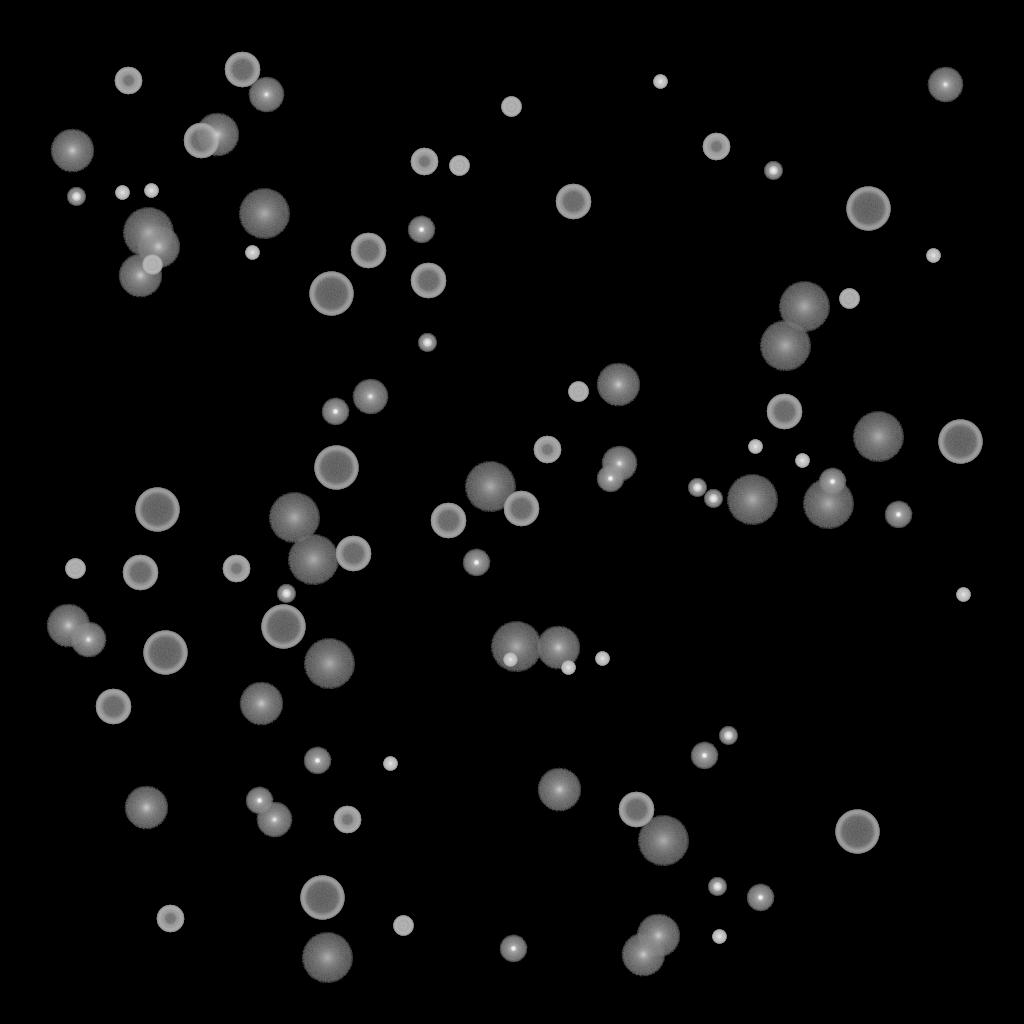depth:-10: (462, 549, 490, 577), (303, 747, 331, 775), (499, 935, 527, 963), (746, 884, 774, 912), (690, 742, 718, 770), (596, 465, 624, 493), (245, 787, 273, 815), (884, 501, 912, 529), (321, 398, 349, 426), (407, 216, 435, 244), (818, 468, 846, 496)
depth:-20: (764, 162, 782, 180), (708, 878, 726, 896), (418, 334, 436, 352), (719, 727, 737, 745), (688, 479, 706, 497), (704, 490, 722, 508), (277, 585, 295, 603), (67, 188, 85, 206)
depth:-30: (561, 661, 575, 675), (956, 588, 970, 602), (595, 652, 609, 666), (144, 184, 158, 198), (115, 186, 129, 200), (653, 75, 667, 89), (503, 653, 517, 667), (245, 246, 259, 260), (383, 757, 397, 771), (748, 440, 762, 454), (795, 454, 809, 468), (926, 249, 940, 263), (712, 930, 726, 944)
depth:-40: (501, 97, 521, 117), (449, 156, 469, 176), (568, 382, 588, 402), (65, 559, 85, 579), (393, 916, 413, 936), (839, 289, 859, 309), (142, 255, 162, 275)
depth:-50: (156, 905, 184, 933), (114, 67, 142, 95), (533, 436, 561, 464), (222, 555, 250, 583), (333, 806, 361, 834), (410, 148, 438, 176), (702, 133, 730, 161)
depth:-60: (503, 491, 539, 527), (766, 394, 802, 430), (350, 233, 386, 269), (224, 52, 260, 88), (335, 536, 371, 572), (618, 792, 654, 828), (430, 503, 466, 539), (183, 123, 219, 159), (95, 689, 131, 725), (410, 263, 446, 299), (555, 184, 591, 220), (122, 555, 158, 591)
depth:-70: (309, 272, 353, 316), (846, 187, 890, 231), (143, 631, 187, 675), (835, 810, 879, 854), (135, 488, 179, 532), (300, 876, 344, 920), (261, 605, 305, 649), (938, 420, 982, 464), (314, 446, 358, 490)
depth:0: (248, 77, 284, 113), (70, 622, 106, 658), (256, 802, 292, 838), (601, 446, 637, 482), (927, 67, 963, 103), (352, 379, 388, 415)
depth:10: (46, 604, 90, 648), (536, 626, 580, 670), (537, 768, 581, 812), (239, 682, 283, 726), (195, 113, 239, 157), (50, 129, 94, 173), (136, 225, 180, 269), (118, 254, 162, 298), (636, 914, 680, 958), (124, 786, 168, 830), (621, 933, 665, 977), (596, 363, 640, 407)
depth:20: (802, 479, 854, 529), (268, 493, 320, 543), (778, 282, 830, 332), (464, 462, 516, 512), (726, 475, 778, 525), (637, 816, 689, 866), (287, 535, 339, 585), (122, 208, 174, 258), (303, 639, 355, 689), (759, 321, 811, 371), (238, 189, 290, 239), (490, 622, 542, 672), (852, 412, 904, 462), (301, 933, 353, 983)
